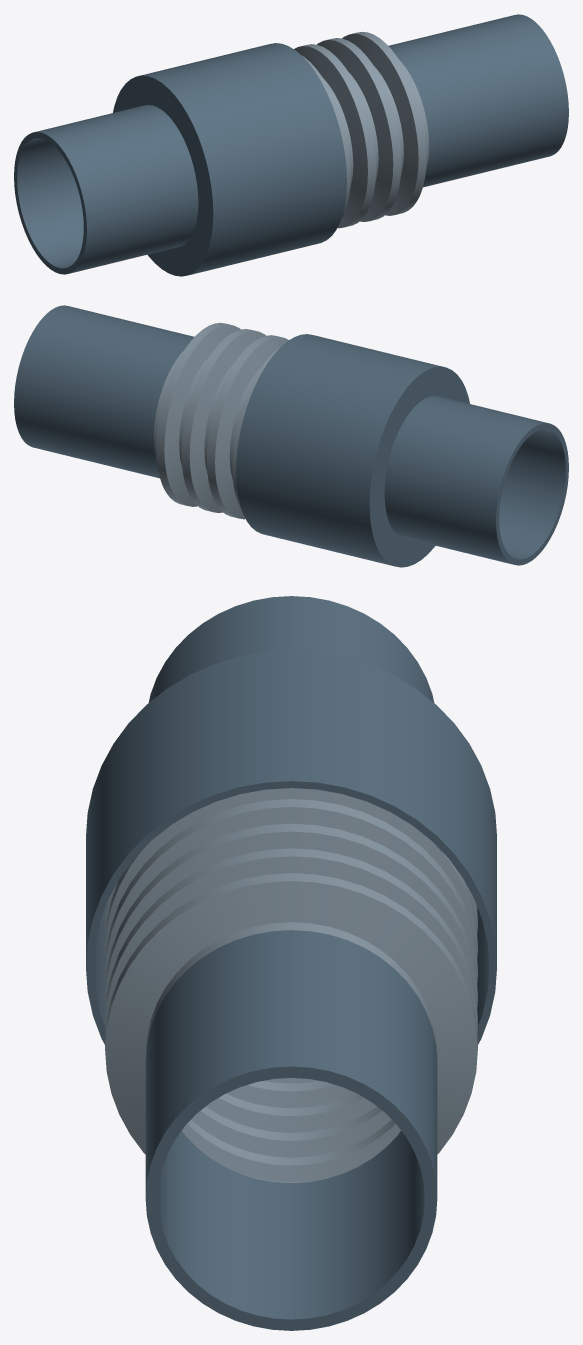
File: silf-dn65-L290-D76-k.glb
3 views of the same model, one above another, from view 1: azimuth 30°, elevation 25°; view 2: azimuth 150°, elevation 25°; view 3: azimuth 270°, elevation 25° (orthographic). The views are drawn at different scales.
Visible parts, largest first — view 1: osnovanie_kozhuh_1, patrubok_1, patrubok_2, prokladka_silfon_1; view 2: osnovanie_kozhuh_1, patrubok_1, patrubok_2, prokladka_silfon_1; view 3: patrubok_2, prokladka_silfon_1, osnovanie_kozhuh_1, patrubok_1.
Part boxes in pixels (bbox=[...]): osnovanie_kozhuh_1: bbox=[113, 43, 346, 276]; patrubok_1: bbox=[14, 105, 198, 274]; patrubok_2: bbox=[388, 14, 568, 187]; prokladka_silfon_1: bbox=[294, 31, 429, 228]; osnovanie_kozhuh_1: bbox=[236, 334, 469, 567]; patrubok_1: bbox=[384, 396, 568, 565]; patrubok_2: bbox=[14, 305, 194, 478]; prokladka_silfon_1: bbox=[153, 322, 288, 519]; patrubok_2: bbox=[145, 930, 437, 1330]; prokladka_silfon_1: bbox=[105, 788, 477, 1182]; osnovanie_kozhuh_1: bbox=[86, 650, 496, 1044]; patrubok_1: bbox=[148, 596, 434, 702].
Bounding box in the file's own units: 290 × 107 × 107.
